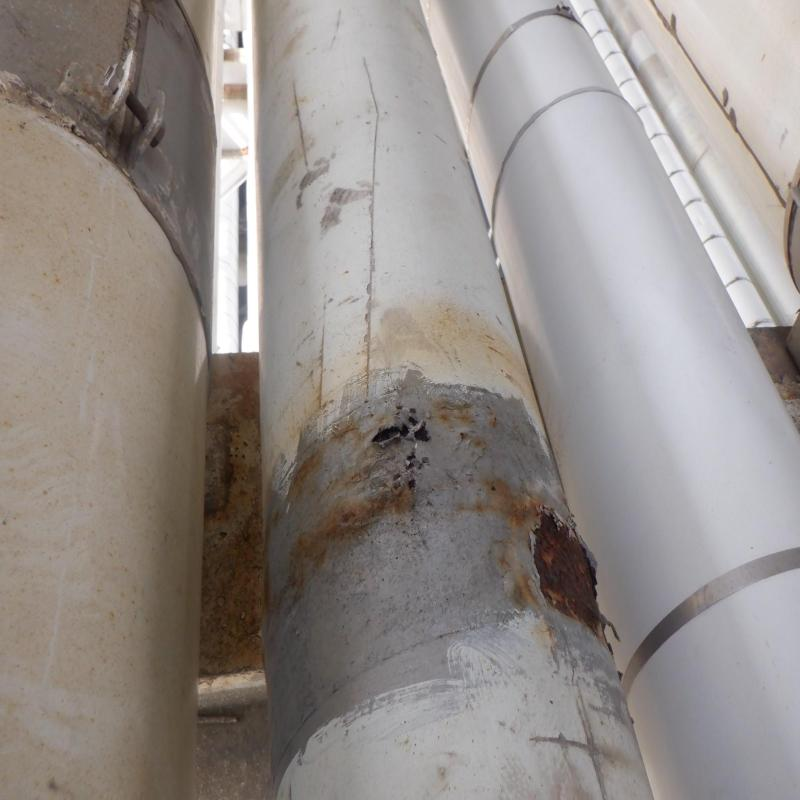corrosion: (528, 494, 607, 639)
